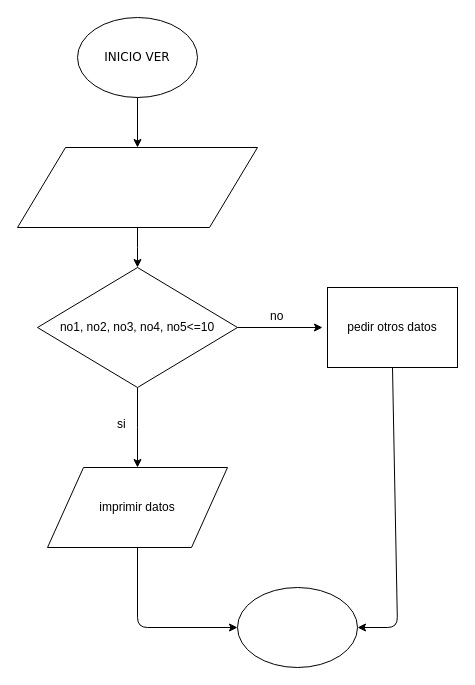
Image size: 475x685. Some labels were removed from this diagram. The shapes that lost their labels are listed below. From the top down, each one's centre as x and y in pixels, then its label:
At pixel 137 187: "leer no1, no2, no3, no4, no5 no1,no2,no3,no4,no5=enteros".
At pixel 297 627: "fin".
